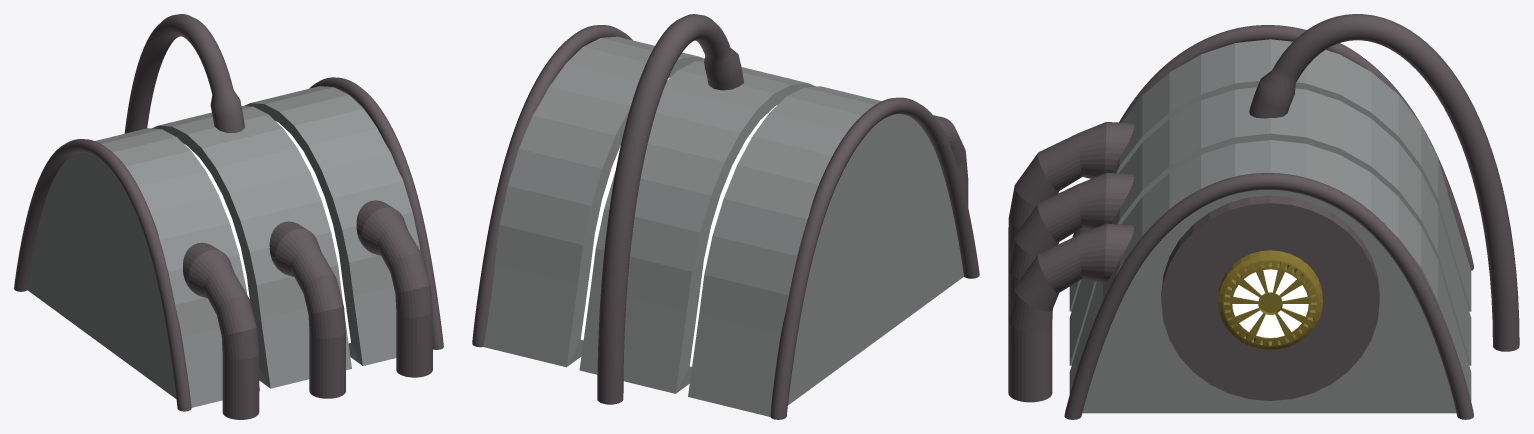
The model's file is FurnaceLevel4.fbx.
3 views of the same model, side by side, from view 1: azimuth 30°, elevation 25°; view 2: azimuth 150°, elevation 25°; view 3: azimuth 270°, elevation 25° (orthographic). The views are drawn at different scales.
Visible parts, largest first — view 1: Cylinder, Cylinder.004, Cylinder.005, Cylinder.003, NurbsPath.001, NurbsPath.002, NurbsPath; view 2: Cylinder, NurbsPath.002, NurbsPath.001, NurbsPath, Cylinder.004; view 3: Cylinder, Cylinder.001, NurbsPath.002, NurbsPath, Cylinder.005, Cylinder.002, Cylinder.003, Cylinder.004, NurbsPath.001.
Boxes of the visible parts, bbox=[...] form: Cylinder: bbox=[27, 86, 420, 407]; Cylinder.004: bbox=[183, 242, 259, 419]; Cylinder.005: bbox=[356, 200, 432, 377]; Cylinder.003: bbox=[269, 221, 345, 398]; NurbsPath.001: bbox=[14, 139, 191, 411]; NurbsPath.002: bbox=[124, 14, 244, 133]; NurbsPath: bbox=[309, 77, 443, 349]; Cylinder: bbox=[483, 36, 963, 416]; NurbsPath.002: bbox=[597, 14, 743, 404]; NurbsPath.001: bbox=[770, 97, 979, 419]; NurbsPath: bbox=[472, 25, 632, 347]; Cylinder.004: bbox=[933, 115, 968, 207]; Cylinder: bbox=[1069, 39, 1471, 413]; Cylinder.001: bbox=[1161, 195, 1379, 400]; NurbsPath.002: bbox=[1249, 14, 1519, 351]; NurbsPath: bbox=[1064, 173, 1473, 419]; Cylinder.005: bbox=[1008, 223, 1134, 402]; Cylinder.002: bbox=[1218, 250, 1322, 349]; Cylinder.003: bbox=[1008, 172, 1134, 328]; Cylinder.004: bbox=[1008, 122, 1134, 277]; NurbsPath.001: bbox=[1072, 25, 1473, 270].
Size of the model in its own units: 1.49 by 1.41 by 1.98.
